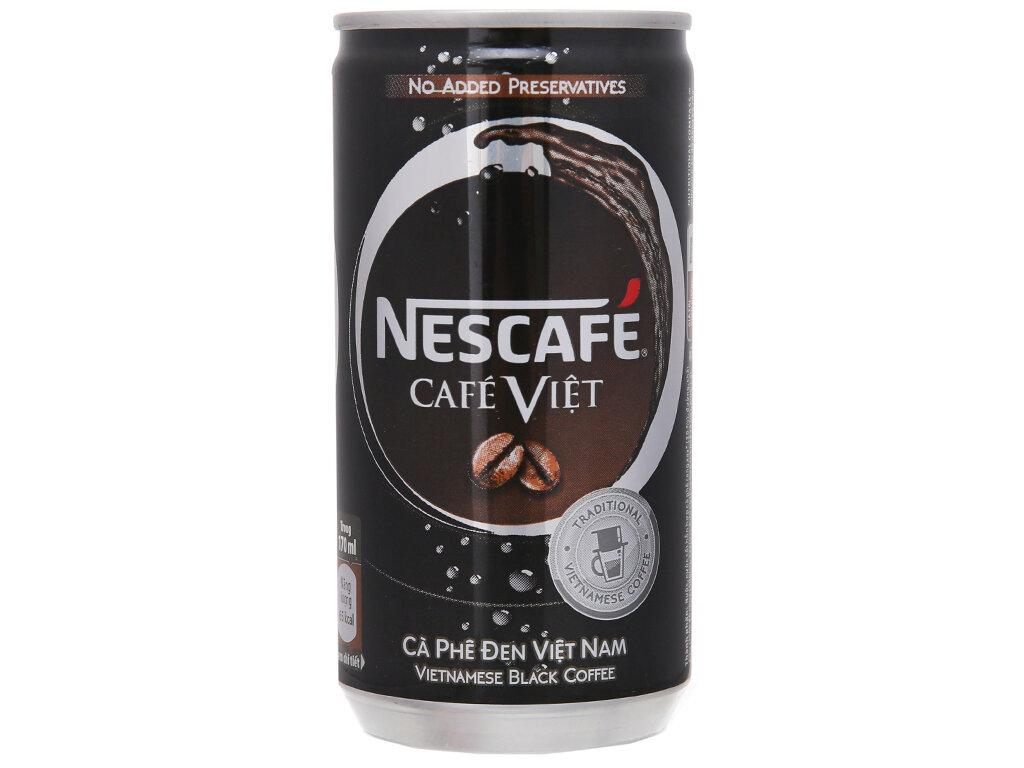metal: (335, 11, 691, 752)
